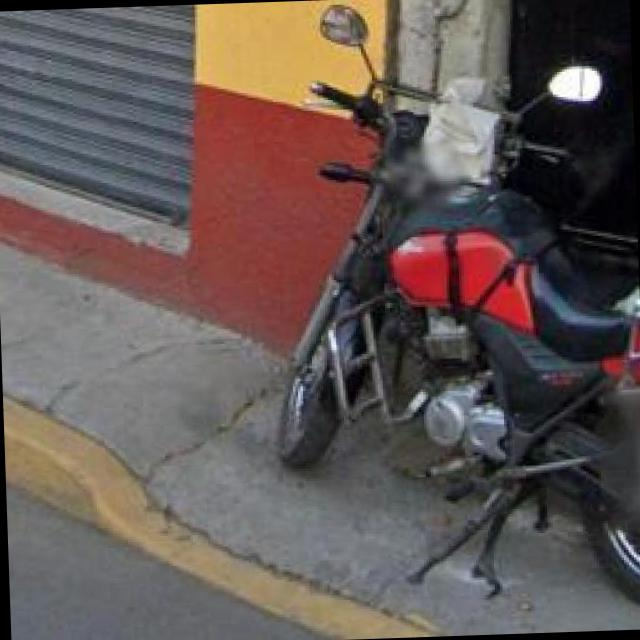bike: (275, 6, 640, 606)
